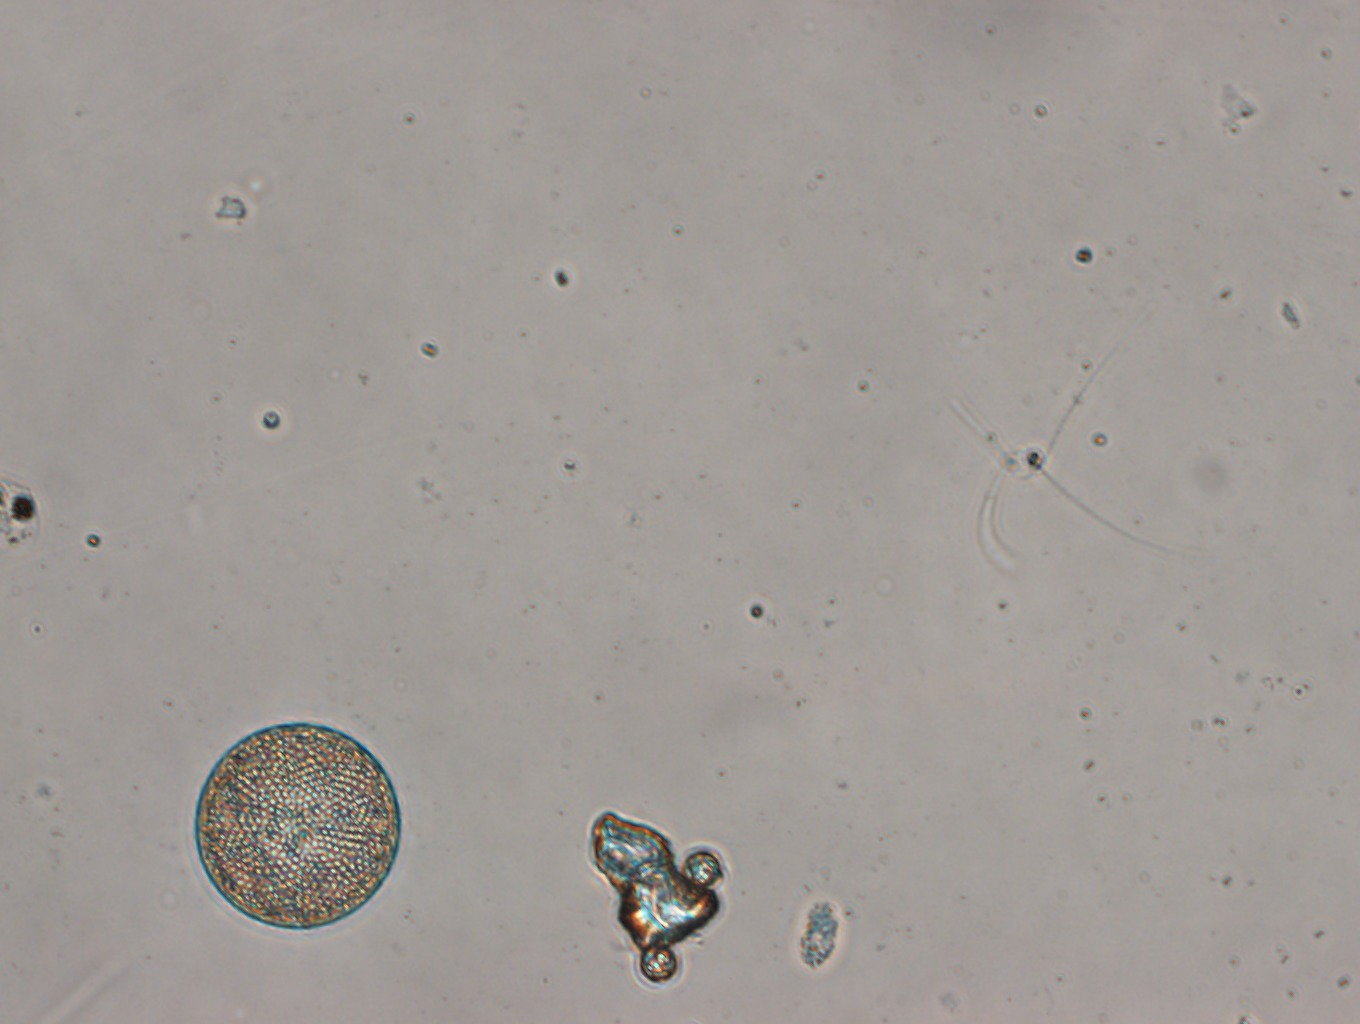coscinodiscus: (190, 719, 405, 929)
